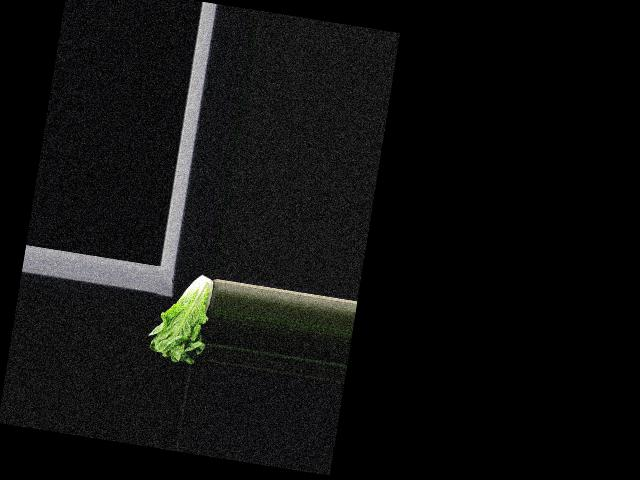lettuce: (145, 267, 216, 367)
